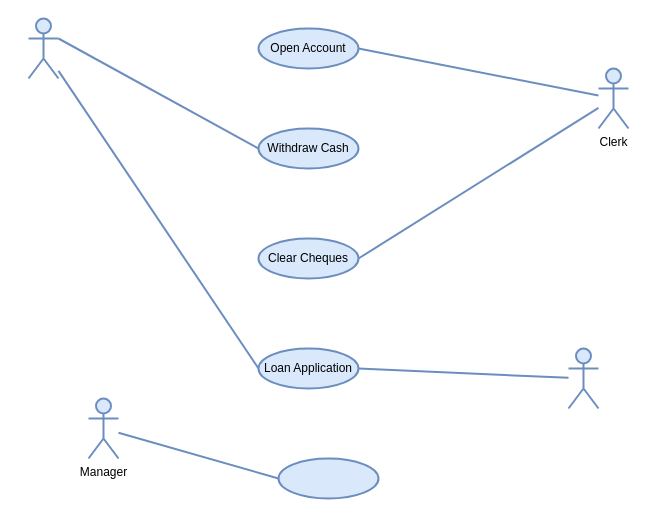
Image size: 646x516. Some labels were removed from this diagram. Each missing label, with the box of its shape:
Customer: (27, 17, 59, 79)
Loan Cofficer: (567, 347, 599, 409)
Reports: (277, 457, 379, 499)
